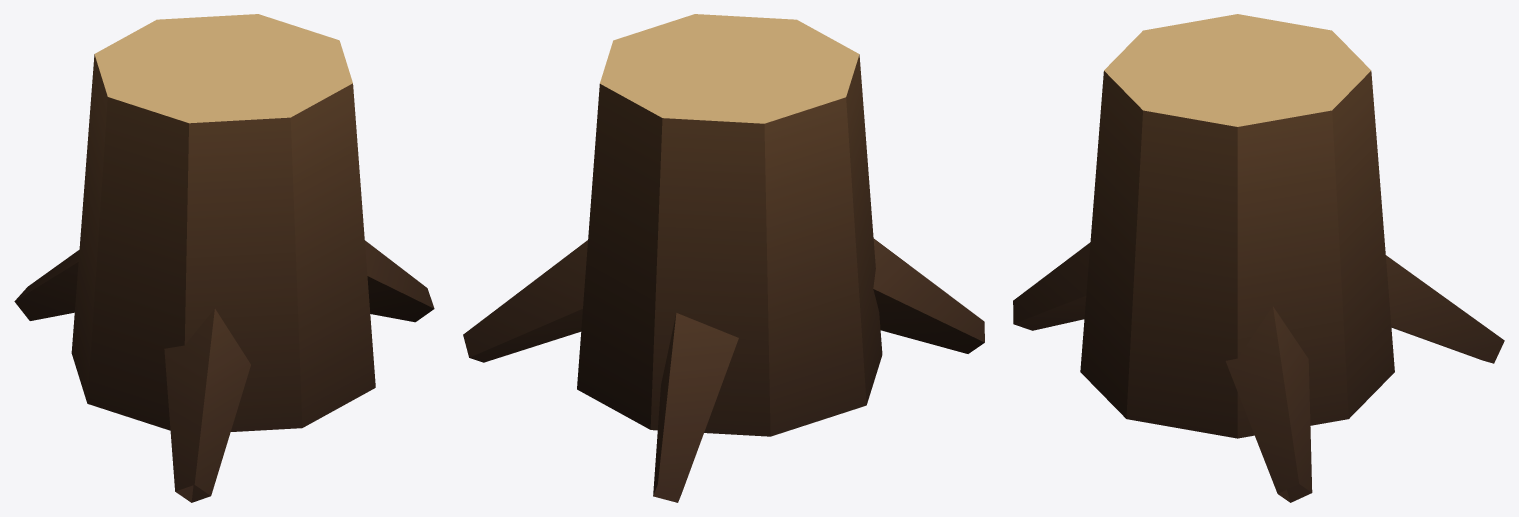
File: FruitStump.fbx
The picture shows the model from 3 angles, left to right: view 1: azimuth 30°, elevation 25°; view 2: azimuth 150°, elevation 25°; view 3: azimuth 270°, elevation 25°; orthographic projection.
Visible parts, largest first — view 1: FruitStump_LOD0; view 2: FruitStump_LOD0; view 3: FruitStump_LOD0.
Part boxes in pixels (x1,y1,x2,y2): FruitStump_LOD0: (14,14,434,502); FruitStump_LOD0: (463,14,984,502); FruitStump_LOD0: (1013,14,1504,502).
Size of what is drawn, in the model's own units: 0.7359 by 0.5946 by 0.8127.
Materials: 1 (1 with a texture image).
